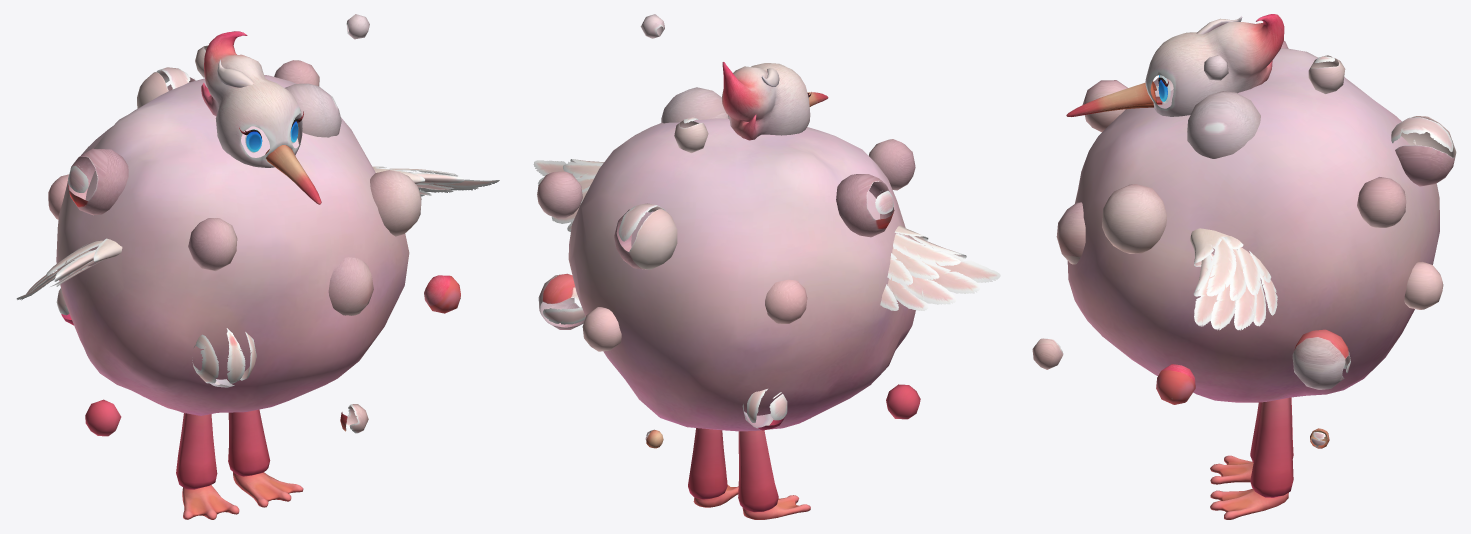
File: fahloo.glb
3 renders of one model, left to right at view 1: azimuth 30°, elevation 25°; view 2: azimuth 150°, elevation 25°; view 3: azimuth 270°, elevation 25°, orthographic. The views are drawn at different scales.
Parts seen in each view (by area): view 1: M_Parmon_10481_Body01_LOD1_-580617667.obj, M_Parmon_10481_Body_LOD1_-580617667.obj, M_Parmon_10481_Body02_LOD1_-580617667.obj; view 2: M_Parmon_10481_Body01_LOD1_-580617667.obj, M_Parmon_10481_Body02_LOD1_-580617667.obj, M_Parmon_10481_Body_LOD1_-580617667.obj; view 3: M_Parmon_10481_Body01_LOD1_-580617667.obj, M_Parmon_10481_Body02_LOD1_-580617667.obj, M_Parmon_10481_Body_LOD1_-580617667.obj.
Part boxes in pixels (left/top/right/bottom): M_Parmon_10481_Body01_LOD1_-580617667.obj: left=56, top=75, right=409, bottom=415; M_Parmon_10481_Body_LOD1_-580617667.obj: left=16, top=31, right=499, bottom=519; M_Parmon_10481_Body02_LOD1_-580617667.obj: left=48, top=14, right=460, bottom=436; M_Parmon_10481_Body01_LOD1_-580617667.obj: left=568, top=118, right=915, bottom=431; M_Parmon_10481_Body02_LOD1_-580617667.obj: left=537, top=14, right=920, bottom=448; M_Parmon_10481_Body_LOD1_-580617667.obj: left=533, top=62, right=1000, bottom=519; M_Parmon_10481_Body01_LOD1_-580617667.obj: left=1067, top=48, right=1439, bottom=402; M_Parmon_10481_Body02_LOD1_-580617667.obj: left=1032, top=41, right=1456, bottom=448; M_Parmon_10481_Body_LOD1_-580617667.obj: left=1066, top=14, right=1293, bottom=519.
Bounding box in the file's own units: 1.09 × 0.9984 × 0.7819.
3 materials, 3 textured.
